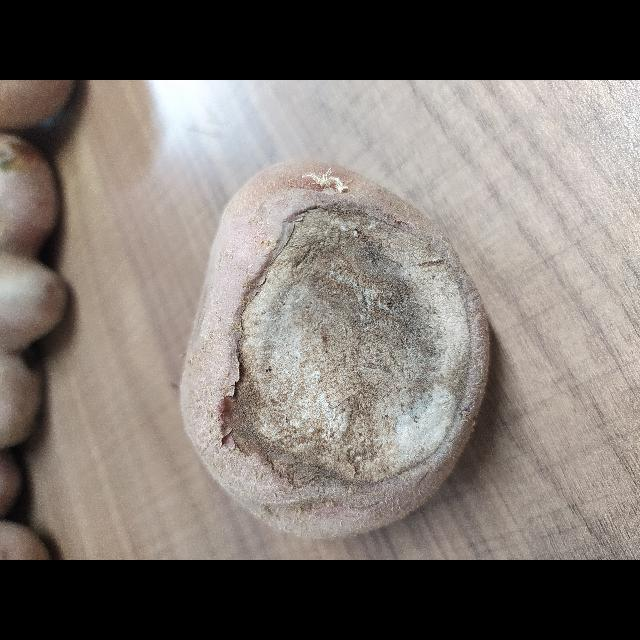Damaged potato: (16, 256, 410, 578)
